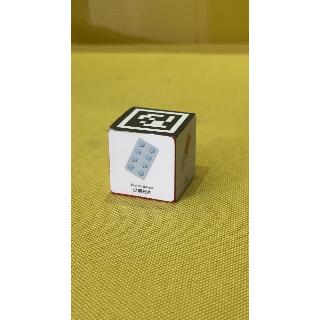Tablet: (112, 129, 175, 205)
